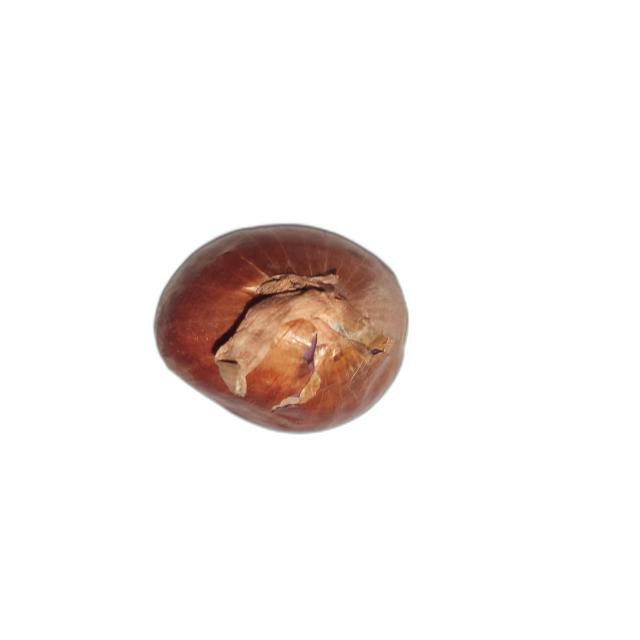onion: (152, 223, 411, 432)
